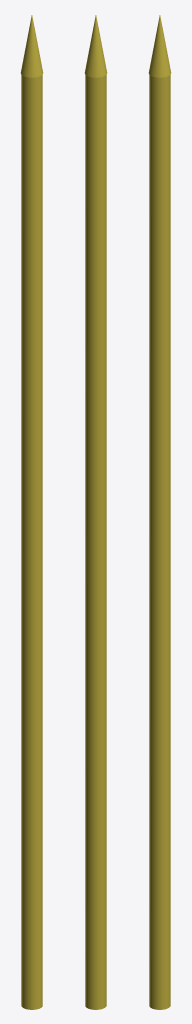
Rendered from Asta.fbx.
The picture shows the model from 3 angles, left to right: view 1: azimuth 30°, elevation 25°; view 2: azimuth 210°, elevation 25°; view 3: azimuth 270°, elevation 25°; orthographic projection.
Visible parts, largest first — view 1: Cylinder001, Cone001; view 2: Cylinder001, Cone001; view 3: Cylinder001, Cone001.
Part boxes in pixels (x1,y1,x2,y2): Cylinder001: (21,75,42,1009); Cone001: (20,15,43,77); Cylinder001: (85,75,106,1009); Cone001: (84,15,107,77); Cylinder001: (149,75,170,1009); Cone001: (148,15,171,77).
Size of the model in its own units: 1.61 by 78.24 by 1.61.
